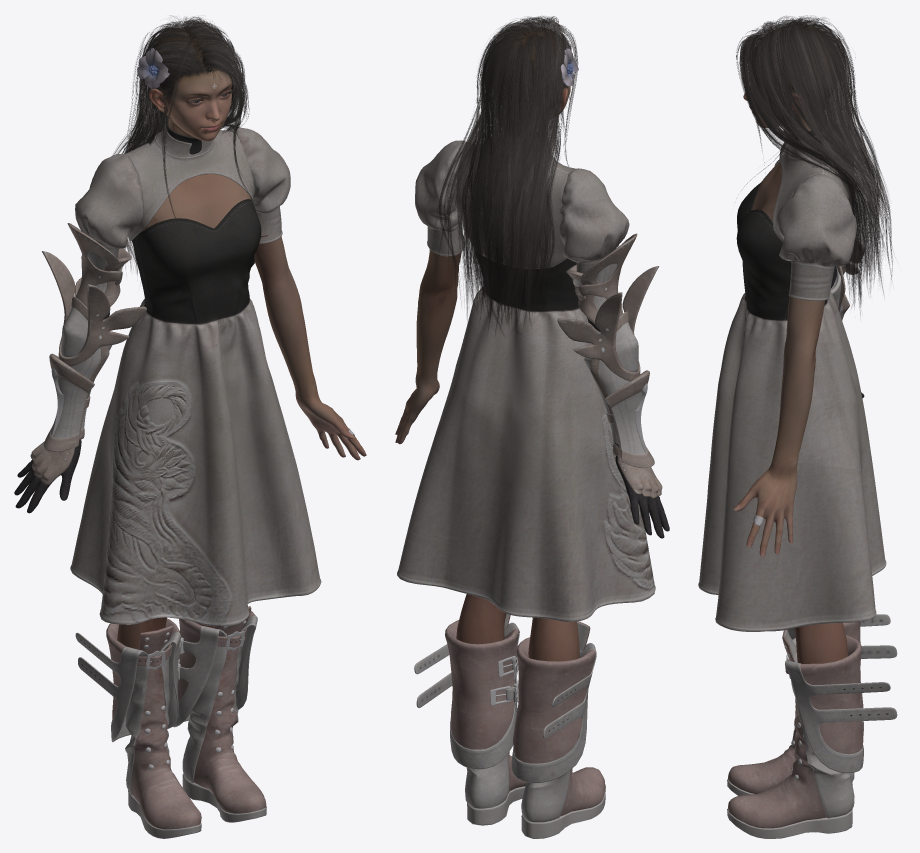
Rendered from adult-female.glb.
3 views of the same model, side by side, from view 1: azimuth 30°, elevation 25°; view 2: azimuth 150°, elevation 25°; view 3: azimuth 270°, elevation 25° (orthographic).
Visible parts, largest first — view 1: neckShape_mesh0005_13_0, bodyShape_mesh0003_5_0, HairShape_mesh0004_11_0, FaceShape_mesh0000_7_0; view 2: neckShape_mesh0005_13_0, HairShape_mesh0004_11_0, bodyShape_mesh0003_5_0, FaceShape_mesh0000_7_0; view 3: neckShape_mesh0005_13_0, HairShape_mesh0004_11_0, bodyShape_mesh0003_5_0, FaceShape_mesh0000_7_0.
Part boxes in pixels (box(x1,y1,x2,y2)): neckShape_mesh0005_13_0: box(14, 48, 354, 838); bodyShape_mesh0003_5_0: box(117, 174, 366, 649); HairShape_mesh0004_11_0: box(112, 15, 252, 275); FaceShape_mesh0000_7_0: box(149, 27, 232, 141); neckShape_mesh0005_13_0: box(397, 48, 669, 838); HairShape_mesh0004_11_0: box(431, 15, 578, 335); bodyShape_mesh0003_5_0: box(395, 235, 579, 661); FaceShape_mesh0000_7_0: box(492, 28, 570, 130); neckShape_mesh0005_13_0: box(698, 20, 897, 838); HairShape_mesh0004_11_0: box(736, 15, 892, 314); bodyShape_mesh0003_5_0: box(733, 161, 848, 663); FaceShape_mesh0000_7_0: box(743, 24, 839, 132).
Size of the model in its own units: 0.7506 by 1.85 by 0.4379.
6 materials, 5 textured.
